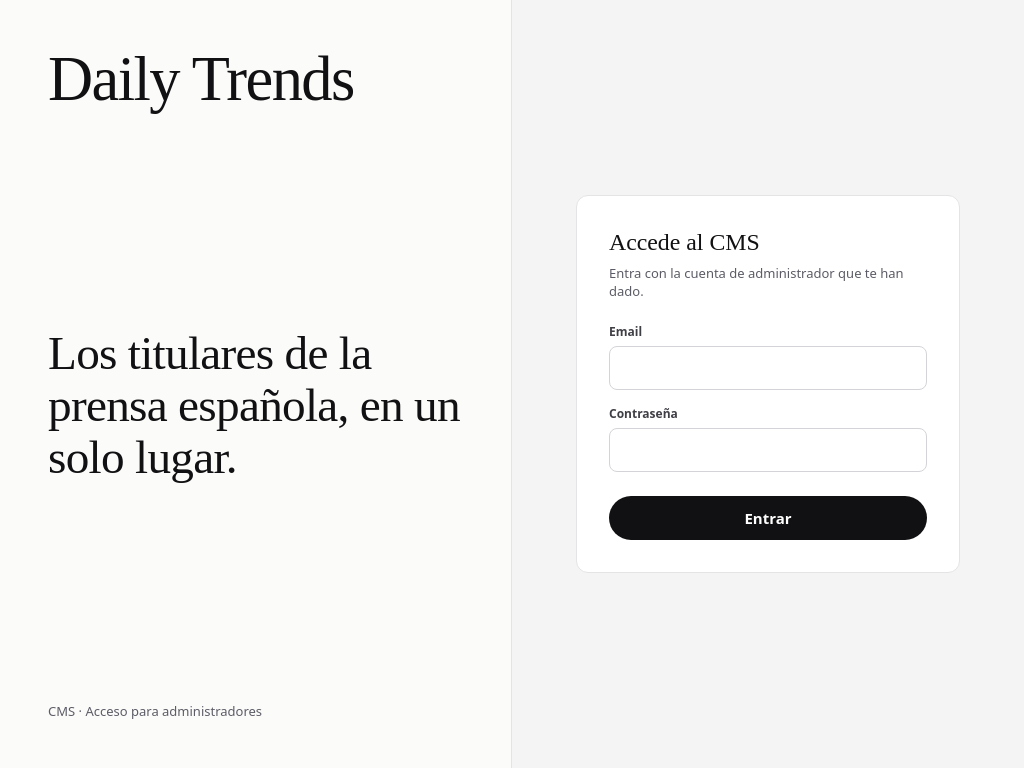
Test: asks for both fields before asking the API
This screenshot has width=1024, height=768.
Click the button "Entrar".
click(768, 518)  # box left=609, top=496, right=927, bottom=540
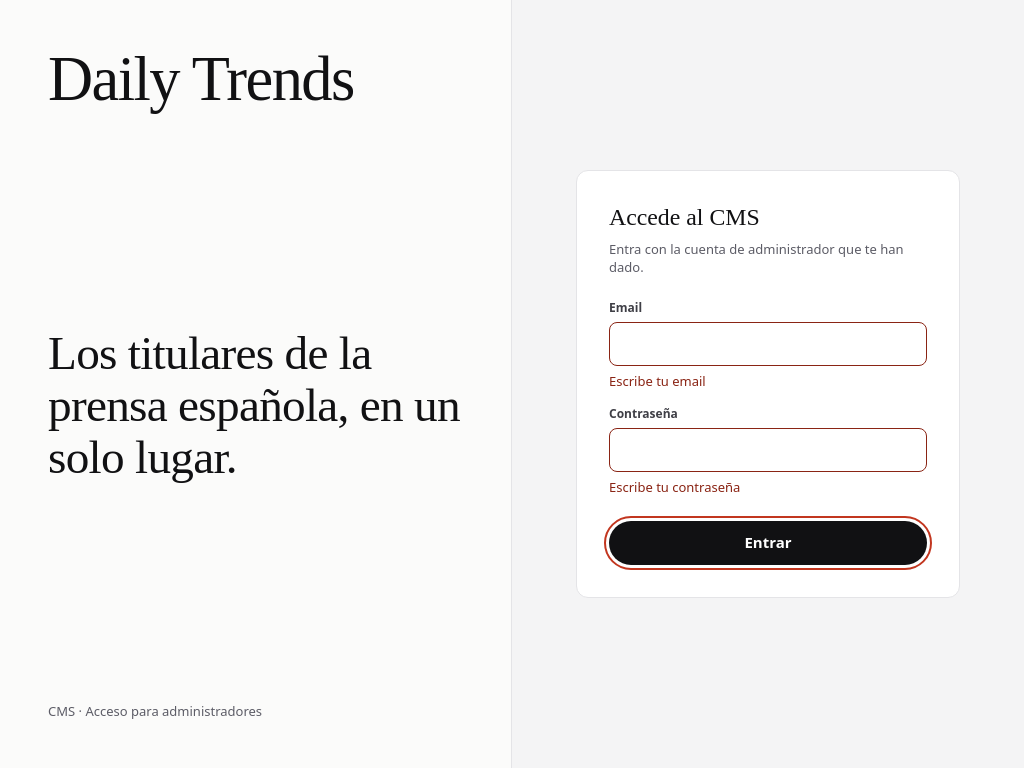
expect the text "Escribe tu email" is shown: met, box left=609, top=372, right=706, bottom=390
expect the text "Escribe tu contraseña" is shown: met, box left=609, top=478, right=740, bottom=496
